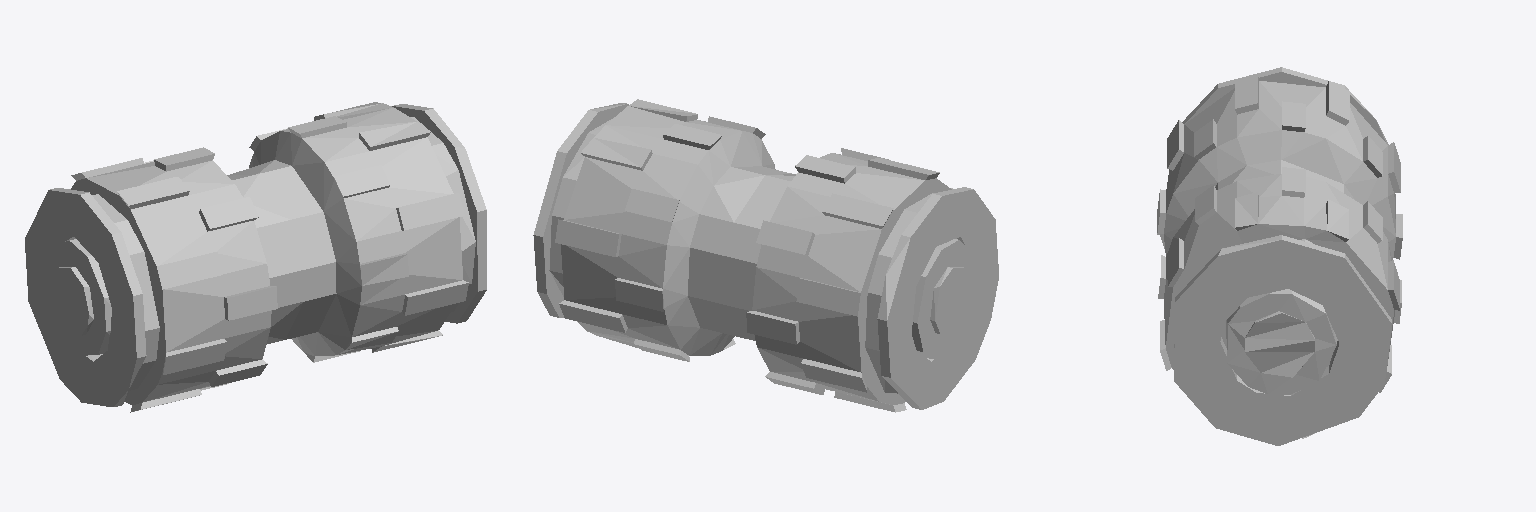
The model's file is Kola_000023.obj.
3 views of the same model, side by side, from view 1: azimuth 30°, elevation 25°; view 2: azimuth 150°, elevation 25°; view 3: azimuth 270°, elevation 25° (orthographic).
Visible parts, largest first — view 1: Cylinder.004; view 2: Cylinder.004; view 3: Cylinder.004.
Boxes of the visible parts, <box> form: Cylinder.004: <box>25,102,486,412</box>; Cylinder.004: <box>533,99,998,412</box>; Cylinder.004: <box>1157,67,1402,445</box>.
Size of the model in its own units: 2.17 by 1.25 by 1.25.